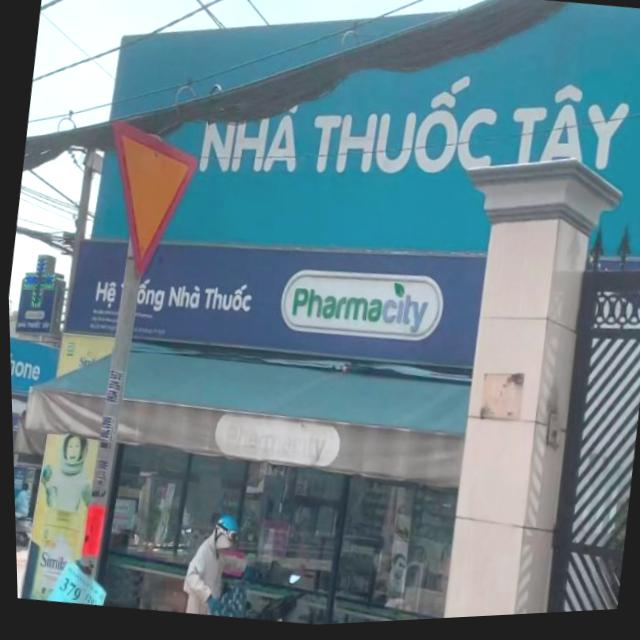Giao nhau voi duong uu tien: (84, 100, 214, 296)
